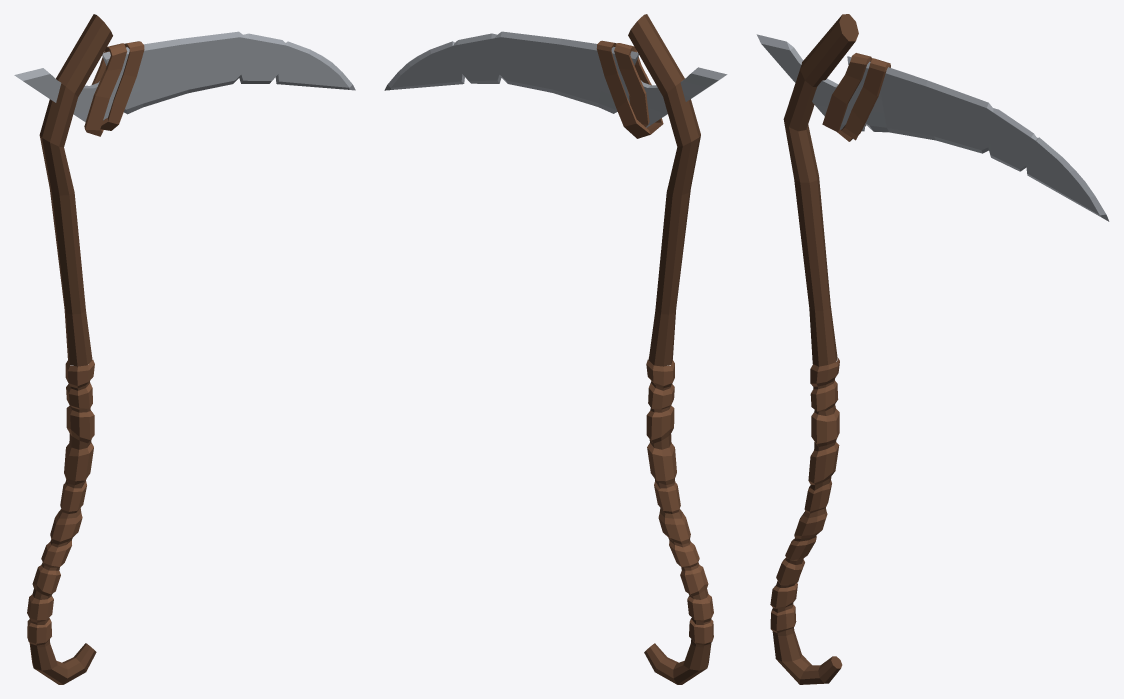
The model's file is Scythe.gltf.
3 views of the same model, side by side, from view 1: azimuth 30°, elevation 25°; view 2: azimuth 150°, elevation 25°; view 3: azimuth 330°, elevation 25° (orthographic). The views are drawn at different scales.
Visible parts, largest first — view 1: Scythe; view 2: Scythe; view 3: Scythe.
Part boxes in pixels (bbox=[...]): Scythe: bbox=[14, 14, 355, 684]; Scythe: bbox=[384, 14, 727, 684]; Scythe: bbox=[756, 14, 1109, 684].
Size of the model in its own units: 3.03 by 5.58 by 0.2771.
